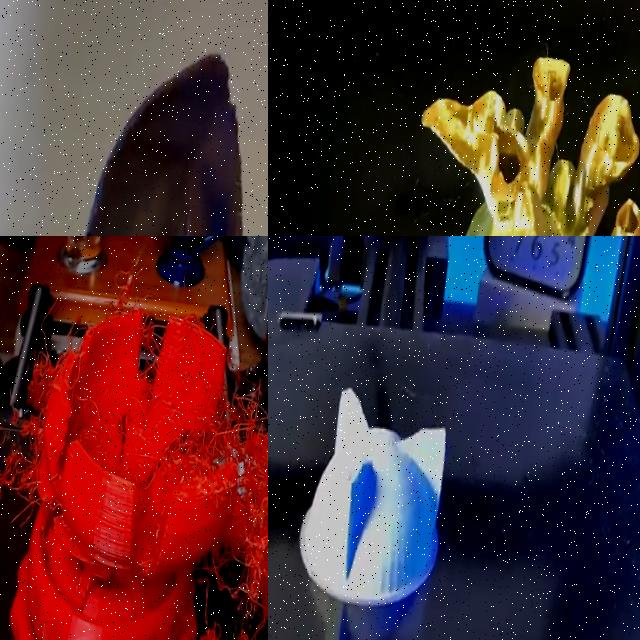spaghetti: (118, 318, 268, 640), (0, 337, 56, 519)
